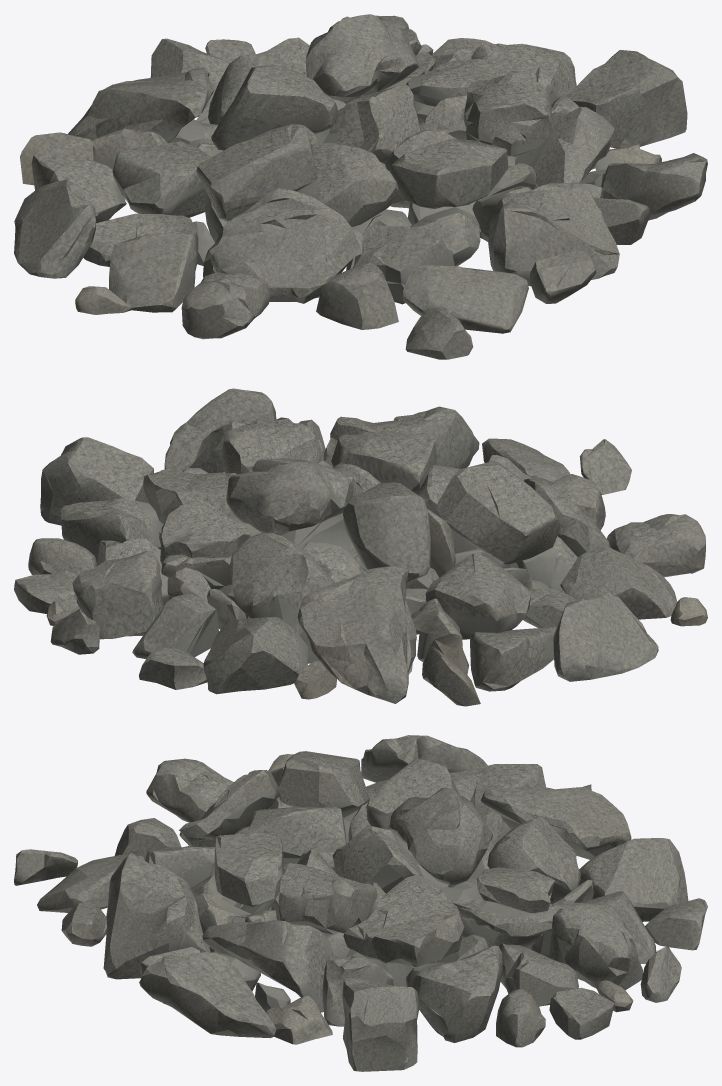
File: forest_gravel_cluster.glb
3 views of the same model, one above another, from view 1: azimuth 30°, elevation 25°; view 2: azimuth 150°, elevation 25°; view 3: azimuth 270°, elevation 25° (orthographic). The views are drawn at different scales.
Size of the model in its own units: 1.89 by 0.4279 by 1.82.
Materials: 1 (1 with a texture image).
